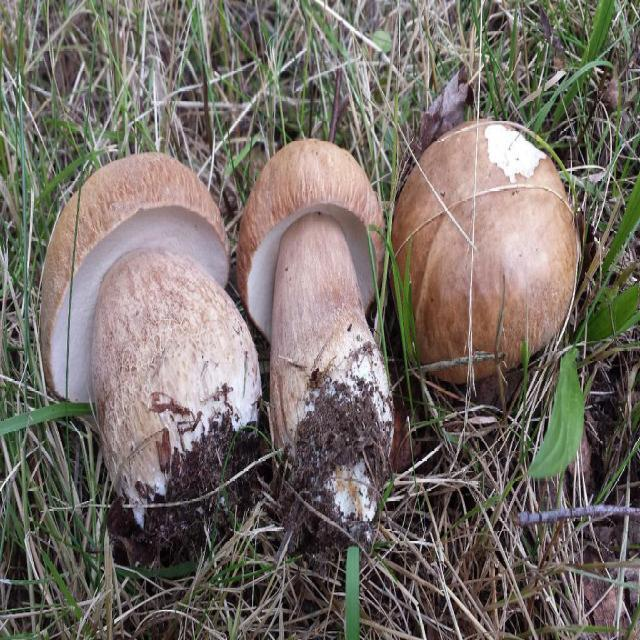Boletus: (38, 152, 263, 542), (235, 135, 391, 530), (388, 119, 578, 386)
